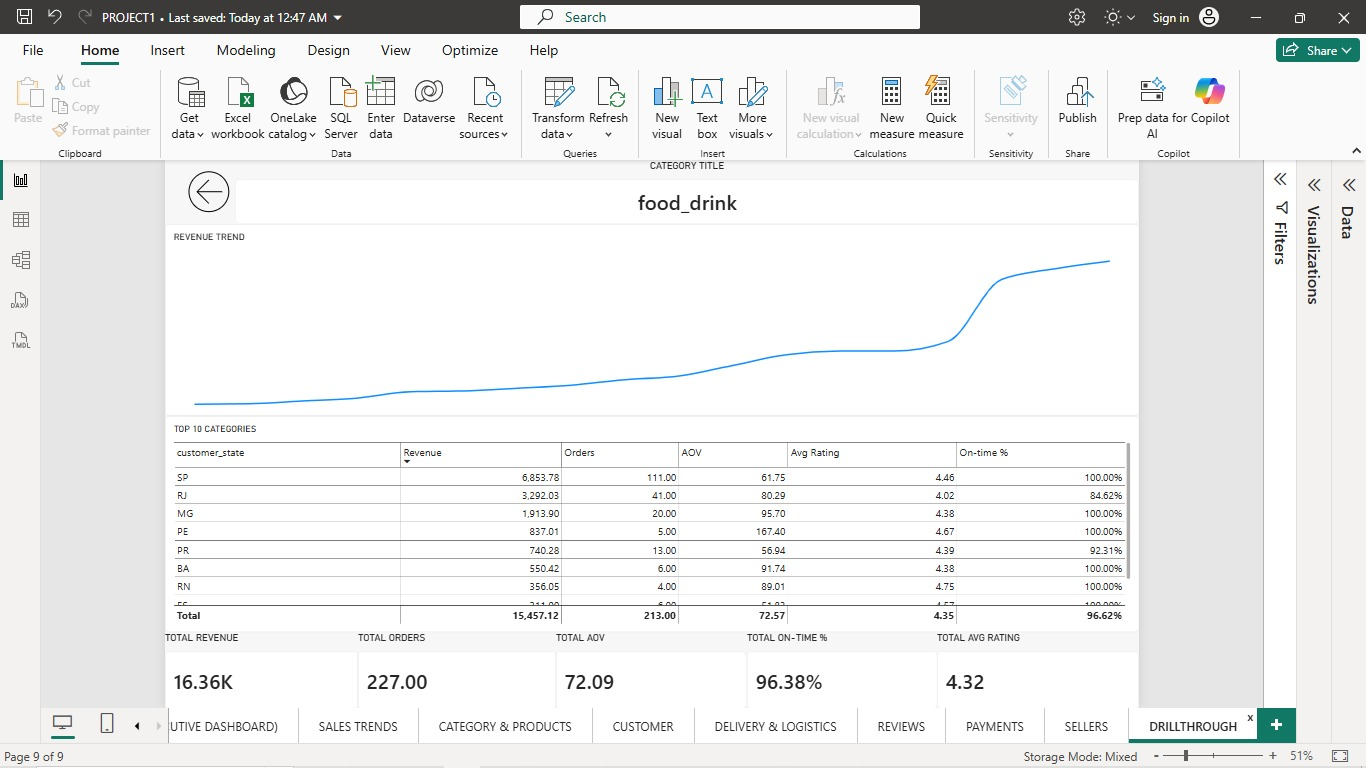

What the dashboard file says about the page in this screenshot:
{"tool":"powerbi","page":{"name":"DRILLTHROUGH","canvas":[1920,1080],"ordinal":8},"visuals":[{"type":"actionButton","box":[0,0,173.9,126],"z":0},{"type":"cardVisual","title":"CATEGORY TITLE","fields":{"Data":["public bi_fact_sales.Drill Title"]},"box":[138.6,0,1781.4,126],"z":1},{"type":"cardVisual","title":"TOTAL REVENUE","fields":{"Data":["public bi_fact_sales.Revenue"]},"box":[0,929.8,380.5,151.2],"z":2},{"type":"cardVisual","title":"TOTAL ORDERS","fields":{"Data":["public bi_fact_sales.Orders"]},"box":[380.5,929.8,390.6,151.2],"z":3},{"type":"cardVisual","title":"TOTAL ON-TIME %","fields":{"Data":["DimDate.On-time %"]},"box":[1146.5,929.8,375.4,151.2],"z":4},{"type":"cardVisual","title":"TOTAL AVG RATING","fields":{"Data":["DimDate.Avg Rating"]},"box":[1521.9,929.8,398.1,151.2],"z":5},{"type":"cardVisual","title":"TOTAL AOV","fields":{"Data":["DimDate.AOV"]},"box":[771,929.8,375.4,151.2],"z":6},{"type":"lineChart","title":"REVENUE TREND","fields":{"Category":["DimDate.Year-Month"],"Y":["public bi_fact_sales.Revenue"]},"box":[0,126,1920,378],"z":7},{"type":"tableEx","title":"TOP 10 CATEGORIES","fields":{"Values":["public bi_fact_sales.customer_state","public bi_fact_sales.Revenue","public bi_fact_sales.Orders","DimDate.AOV","DimDate.Avg Rating","DimDate.On-time %"]},"box":[0,503.9,1920,425.8],"z":8}]}

Visuals, with their boxes on the page's 1920x1080 design canvas (x1, y1, x2, y2). These are canvas units, not pixel positions in the 1366x768 screenshot, which may show the page scaled, cropped or inside an application window:
actionButton: bbox=(0, 0, 174, 126)
"CATEGORY TITLE" cardVisual: bbox=(139, 0, 1920, 126)
"TOTAL REVENUE" cardVisual: bbox=(0, 930, 380, 1081)
"TOTAL ORDERS" cardVisual: bbox=(380, 930, 771, 1081)
"TOTAL ON-TIME %" cardVisual: bbox=(1146, 930, 1522, 1081)
"TOTAL AVG RATING" cardVisual: bbox=(1522, 930, 1920, 1081)
"TOTAL AOV" cardVisual: bbox=(771, 930, 1146, 1081)
"REVENUE TREND" lineChart: bbox=(0, 126, 1920, 504)
"TOP 10 CATEGORIES" tableEx: bbox=(0, 504, 1920, 930)
